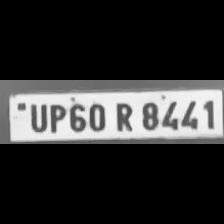0: (86, 100, 108, 132)
1: (200, 98, 216, 130)
4: (160, 97, 180, 130), (178, 98, 198, 130)
6: (66, 101, 86, 133)
8: (136, 99, 160, 131)
P: (46, 102, 66, 132)
R: (109, 100, 134, 132)
U: (26, 100, 48, 132)
